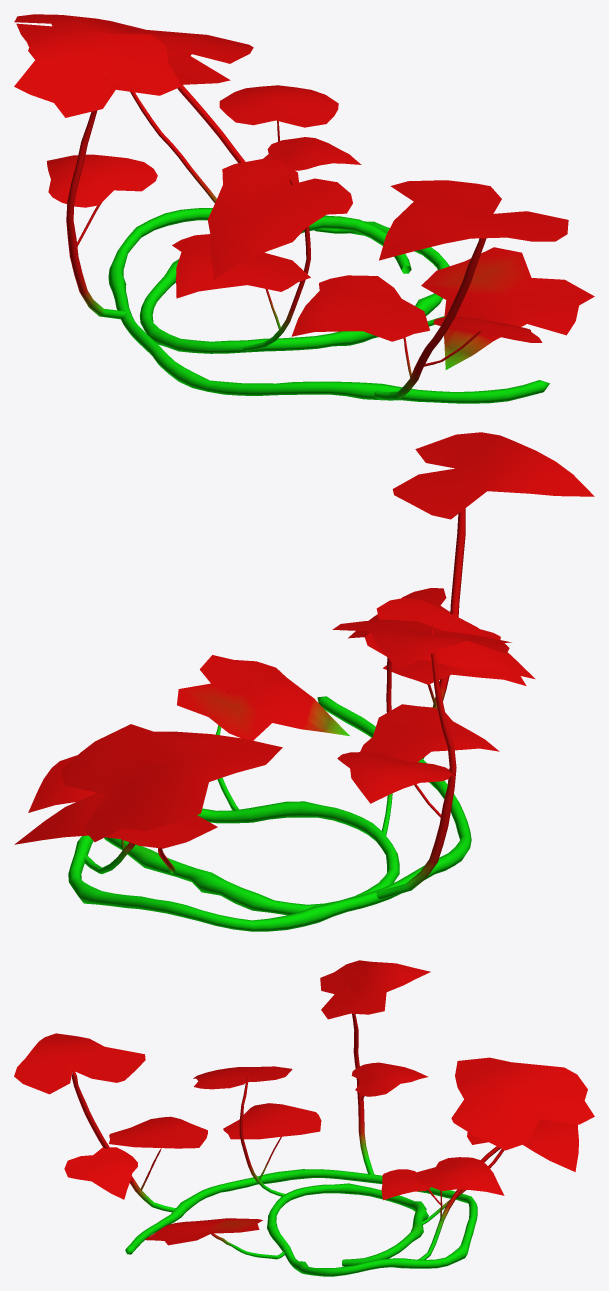
File: Var7_LOD0.fbx
3 renders of one model, top to bottom at view 1: azimuth 30°, elevation 25°; view 2: azimuth 150°, elevation 25°; view 3: azimuth 270°, elevation 25°, orthographic. The views are drawn at different scales.
Visible parts, largest first — view 1: _951f_Var7_LOD0; view 2: _951f_Var7_LOD0; view 3: _951f_Var7_LOD0.
Boxes of the visible parts, <box> form: _951f_Var7_LOD0: <box>14,14,594,403</box>; _951f_Var7_LOD0: <box>14,432,594,931</box>; _951f_Var7_LOD0: <box>14,960,594,1276</box>.
Bounding box in the file's own units: 19.34 × 12.82 × 33.19.
